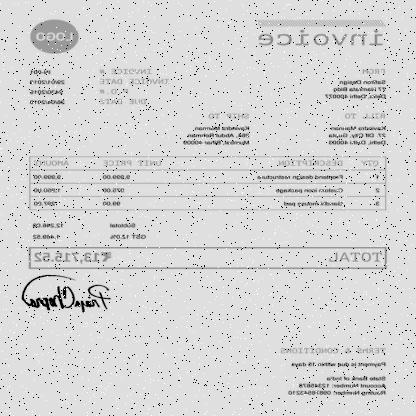Paragraph: (30, 246, 388, 268), (278, 344, 390, 398), (28, 66, 172, 106), (256, 28, 386, 49), (30, 220, 150, 242), (181, 111, 253, 146), (326, 111, 389, 147), (322, 66, 388, 100)
Table: (30, 156, 386, 210)
